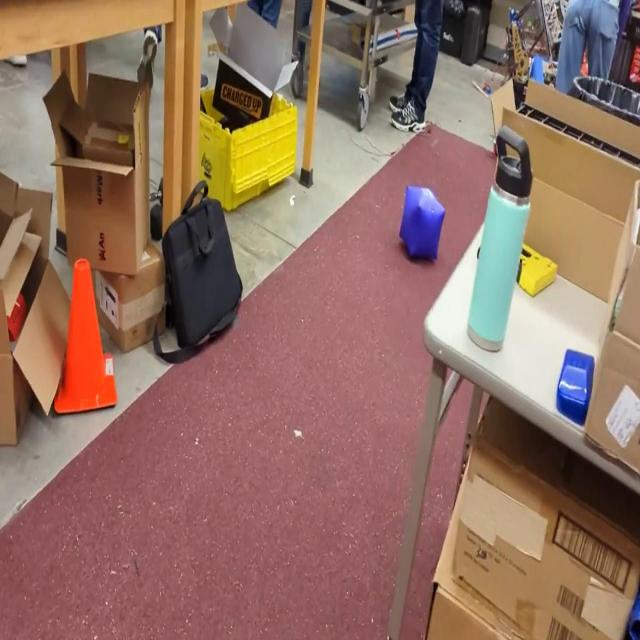frc_cube: (397, 184, 445, 260)
